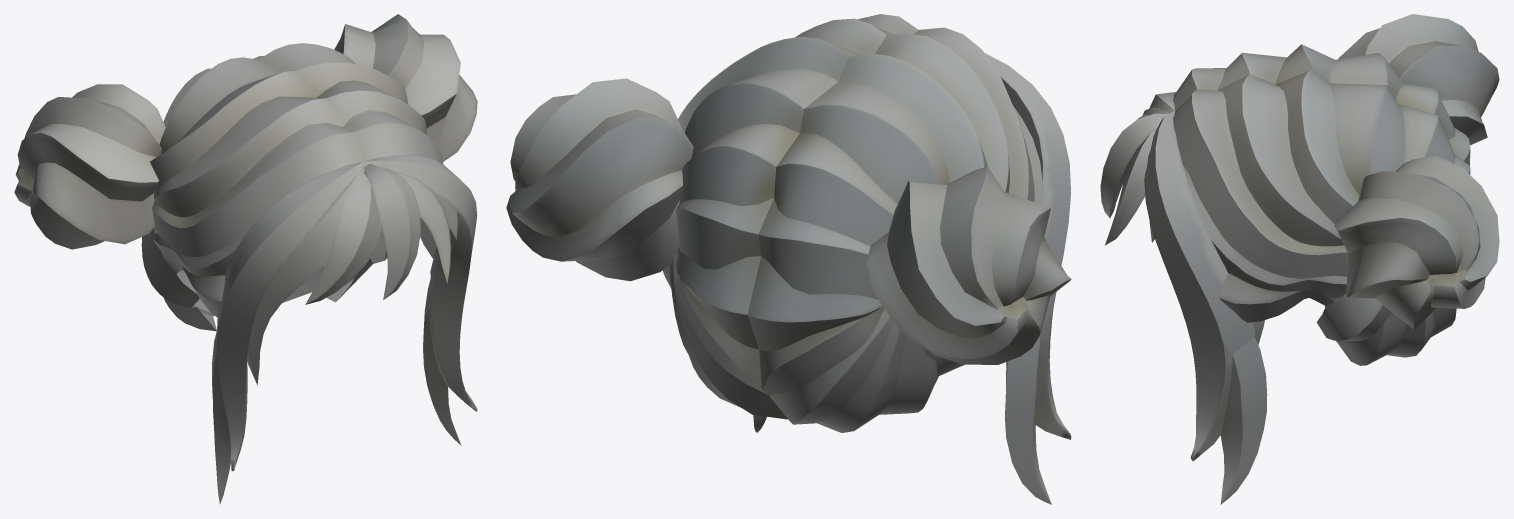
Rendered from Hair_Buns.gltf.
The picture shows the model from 3 angles, left to right: view 1: azimuth 30°, elevation 25°; view 2: azimuth 150°, elevation 25°; view 3: azimuth 270°, elevation 25°; orthographic projection. The views are drawn at different scales.
Visible parts, largest first — view 1: Hair_Buns; view 2: Hair_Buns; view 3: Hair_Buns.
Boxes of the visible parts, x1,y1,x2,y2 form: Hair_Buns: (14, 14, 477, 504); Hair_Buns: (506, 14, 1071, 504); Hair_Buns: (1100, 14, 1499, 504).
Bounding box in the file's own units: 0.3015 × 0.2491 × 0.2368.
1 material, 1 textured.
